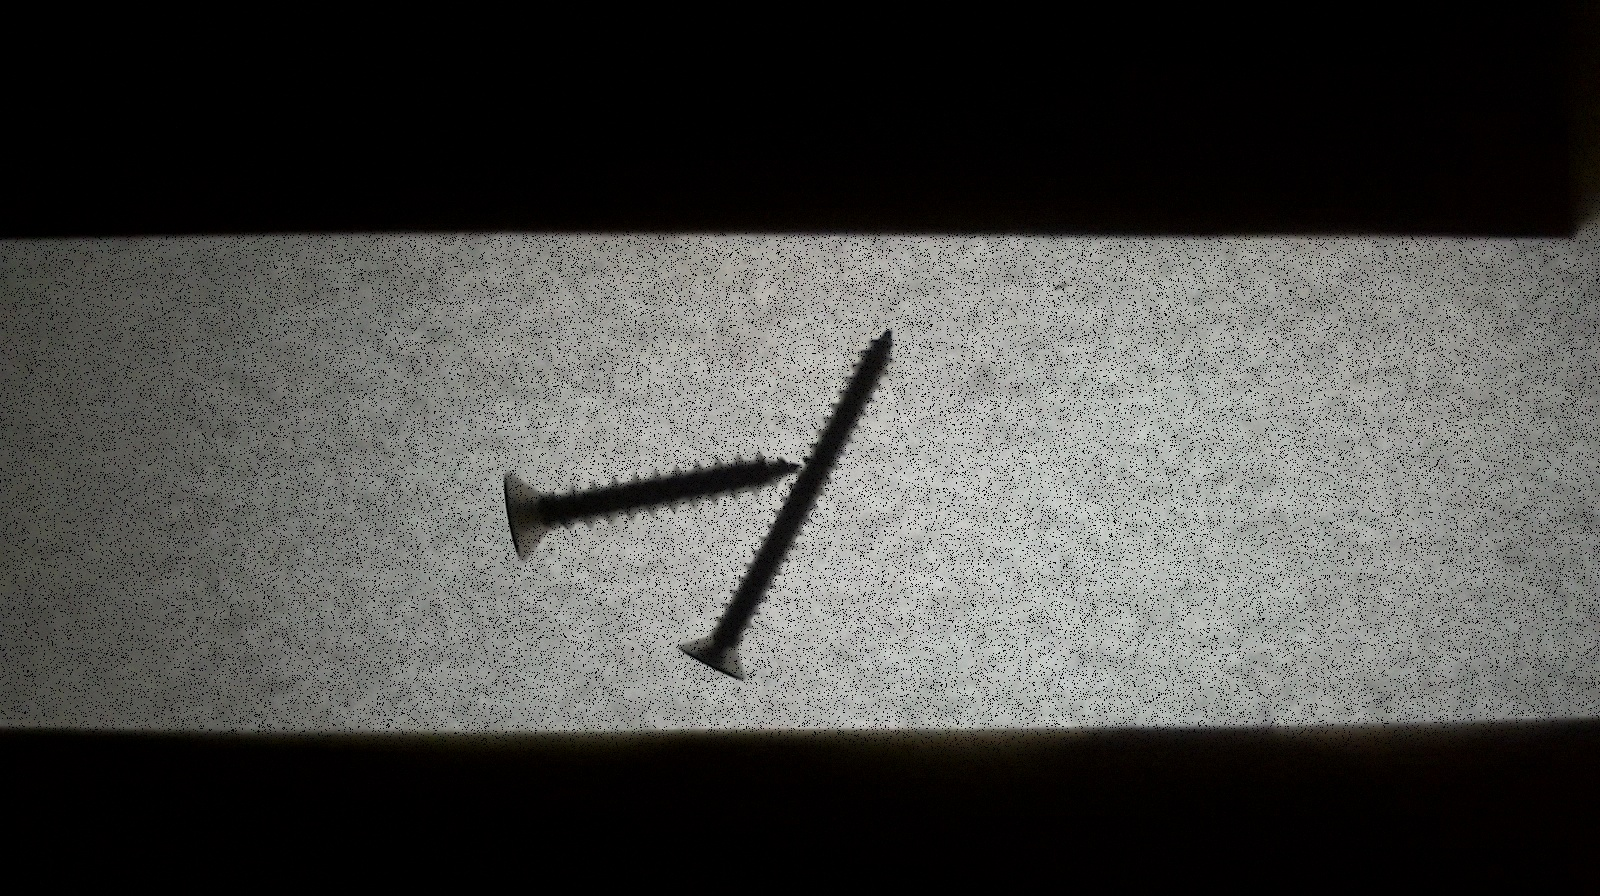S001: (488, 453, 805, 569)
S002: (671, 322, 909, 688)
